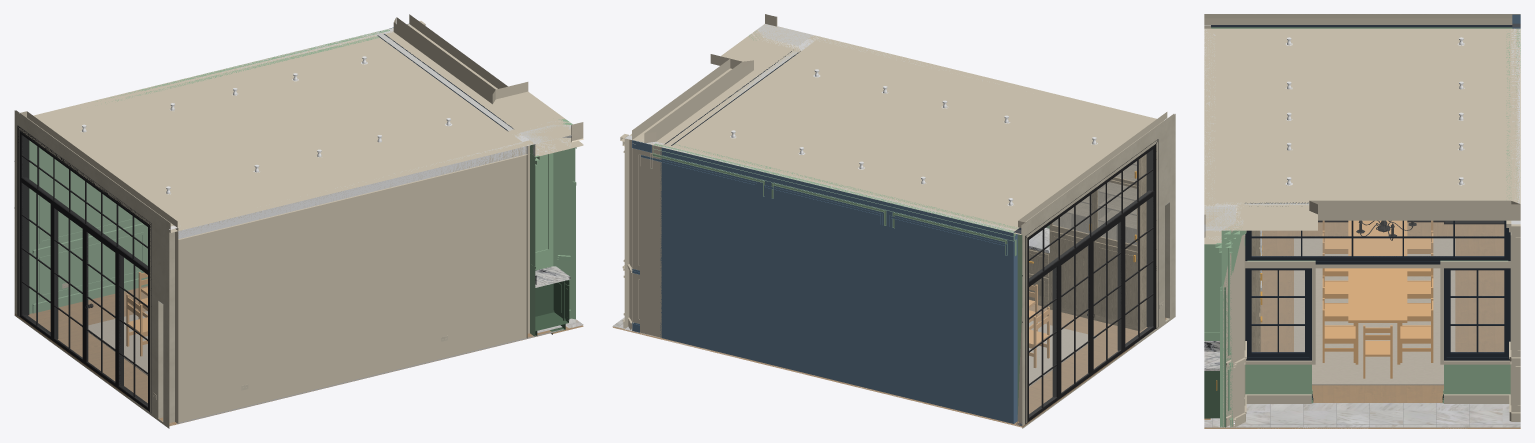
File: dining-room-b6eee1c12f06.glb
3 renders of one model, left to right at view 1: azimuth 30°, elevation 25°; view 2: azimuth 150°, elevation 25°; view 3: azimuth 270°, elevation 25°, orthographic. The views are drawn at different scales.
Visible parts, largest first — view 1: dining-room-d999b7e09afcf2f4, dining-room-2575515a05775d9e, dining-room-08d72923bcfd3529, dining-room-b19b106fc304963c, dining-room-6ee65e99bea3721a, dining-room-3b0077416469e01b, dining-room-a6417c3a9acf4891, dining-room-a5eabba2ad6474eb, dining-room-9d465714b306dbae, dining-room-33ee0b466567e5f0, dining-room-b2b5f93b4255576d, dining-room-d33eebe572d154f2 (+16 smaller); view 2: dining-room-b19b106fc304963c, dining-room-2575515a05775d9e, dining-room-08d72923bcfd3529, dining-room-6ee65e99bea3721a, dining-room-83f06fd99e445f10, dining-room-3b0077416469e01b, dining-room-1bf7a67d8ce0efe5, dining-room-039192b0560cfac3, dining-room-33ee0b466567e5f0, dining-room-e943aa42987caf52, dining-room-2c2ea765d431e5a6, dining-room-8b1c368f4645b32b (+17 smaller); view 3: dining-room-2575515a05775d9e, dining-room-354fbccf932fc63a, dining-room-98d6adcddba0b27e, dining-room-3b0077416469e01b, dining-room-871e2e831c6190fa, dining-room-ba376bd68a22f7f3, dining-room-ad953dfeb3e994ba, dining-room-04e6278159fe4ee8, dining-room-31023c09b8d733cb, dining-room-a5eabba2ad6474eb, dining-room-0bd714ee3619f5b4, dining-room-8d0c89bf27e198bd (+20 smaller).
Boxes of the visible parts, x1,y1,x2,y2 form: dining-room-d999b7e09afcf2f4: (178, 142, 526, 422); dining-room-2575515a05775d9e: (15, 17, 571, 232); dining-room-08d72923bcfd3529: (17, 125, 151, 413); dining-room-b19b106fc304963c: (29, 31, 379, 313); dining-room-6ee65e99bea3721a: (18, 120, 165, 423); dining-room-3b0077416469e01b: (14, 285, 583, 396); dining-room-a6417c3a9acf4891: (178, 146, 527, 239); dining-room-a5eabba2ad6474eb: (547, 121, 575, 318); dining-room-9d465714b306dbae: (166, 225, 178, 425); dining-room-33ee0b466567e5f0: (18, 111, 177, 229); dining-room-b2b5f93b4255576d: (535, 153, 553, 270); dining-room-d33eebe572d154f2: (526, 143, 535, 338); dining-room-b19b106fc304963c: (660, 146, 1015, 423); dining-room-2575515a05775d9e: (644, 14, 1174, 234); dining-room-08d72923bcfd3529: (1025, 139, 1158, 424); dining-room-6ee65e99bea3721a: (1018, 123, 1172, 423); dining-room-83f06fd99e445f10: (644, 141, 664, 337); dining-room-3b0077416469e01b: (613, 320, 1134, 427); dining-room-1bf7a67d8ce0efe5: (1049, 154, 1146, 331); dining-room-039192b0560cfac3: (1013, 222, 1026, 426); dining-room-33ee0b466567e5f0: (1018, 112, 1175, 228); dining-room-e943aa42987caf52: (629, 135, 644, 333); dining-room-2c2ea765d431e5a6: (1099, 247, 1134, 319); dining-room-8b1c368f4645b32b: (653, 143, 1015, 241); dining-room-2575515a05775d9e: (1204, 14, 1520, 230); dining-room-354fbccf932fc63a: (1322, 220, 1433, 378); dining-room-98d6adcddba0b27e: (1245, 220, 1510, 264); dining-room-3b0077416469e01b: (1204, 222, 1520, 428); dining-room-871e2e831c6190fa: (1294, 238, 1455, 385); dining-room-ba376bd68a22f7f3: (1204, 403, 1520, 427); dining-room-ad953dfeb3e994ba: (1444, 268, 1510, 360); dining-room-04e6278159fe4ee8: (1245, 268, 1311, 360); dining-room-31023c09b8d733cb: (1244, 202, 1510, 402); dining-room-a5eabba2ad6474eb: (1221, 220, 1244, 427); dining-room-0bd714ee3619f5b4: (1318, 204, 1520, 220); dining-room-8d0c89bf27e198bd: (1260, 230, 1289, 351).
Size of the model in its own units: 6.74 by 3.19 by 4.36.
39 materials, 10 textured.
